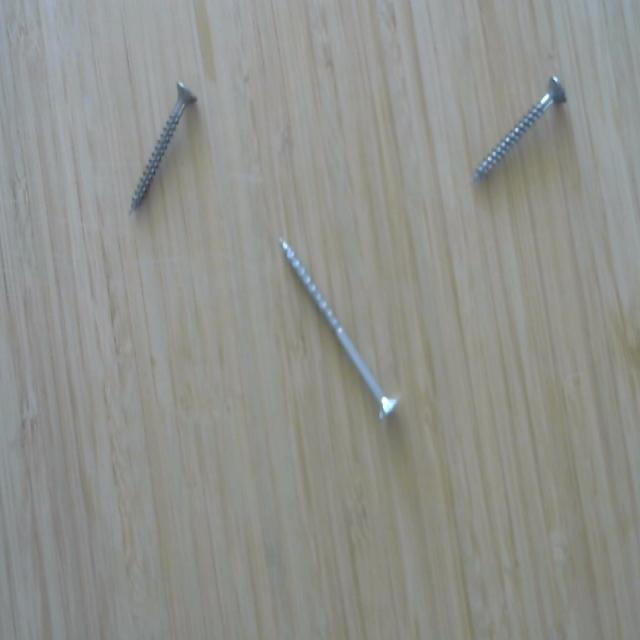Black screw: (462, 66, 576, 196), (119, 73, 205, 225)
Long screw: (266, 224, 411, 430)
